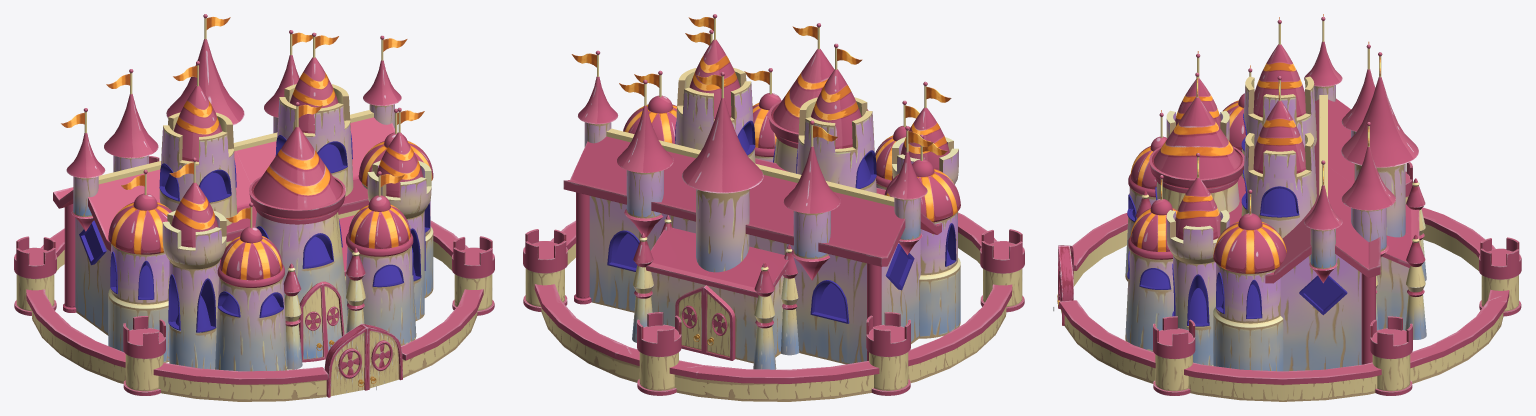
The model's file is Castle (2).fbx.
The picture shows the model from 3 angles, left to right: view 1: azimuth 30°, elevation 25°; view 2: azimuth 150°, elevation 25°; view 3: azimuth 270°, elevation 25°; orthographic projection. The views are drawn at different scales.
Parts seen in each view (by area): view 1: Cylinder.009, Circle, Cylinder.019, Cylinder.004, Cube, Cylinder.001, Cylinder.025, Cylinder.026, Cylinder.012, Cylinder.022, Cylinder.002, Cylinder.040 (+15 smaller); view 2: Cube, Circle, Cylinder.026, Cylinder.004, Cylinder.008, Cylinder.002, Cylinder.025, Cylinder.022, Cube.003, Cylinder.023, Cylinder.001, Cylinder.021 (+13 smaller); view 3: Circle, Cube, Cylinder.004, Cylinder.025, Cylinder.026, Cylinder.019, Cylinder.009, Cylinder.001, Cylinder.008, Cylinder.002, Cylinder.022, Cylinder.023 (+8 smaller).
Part boxes in pixels (left/top/right/bottom): Cylinder.009: left=215, top=195, right=416, bottom=371; Circle: left=26, top=220, right=483, bottom=401; Cylinder.019: left=162, top=132, right=431, bottom=369; Cylinder.004: left=159, top=57, right=353, bottom=225; Cube: left=53, top=117, right=394, bottom=335; Cylinder.001: left=249, top=127, right=347, bottom=334; Cylinder.025: left=108, top=132, right=433, bottom=362; Cylinder.026: left=14, top=156, right=494, bottom=395; Cylinder.012: left=324, top=323, right=402, bottom=397; Cylinder.022: left=66, top=60, right=401, bottom=231; Cylinder.002: left=104, top=55, right=299, bottom=172; Cylinder.040: left=299, top=281, right=344, bottom=362; Cube: left=563, top=136, right=941, bottom=364; Circle: left=534, top=212, right=1012, bottom=401; Cylinder.026: left=523, top=229, right=1024, bottom=395; Cylinder.004: left=675, top=39, right=876, bottom=192; Cylinder.008: left=682, top=98, right=763, bottom=272; Cylinder.002: left=617, top=105, right=840, bottom=280; Cylinder.025: left=623, top=95, right=960, bottom=338; Cylinder.022: left=578, top=76, right=927, bottom=254; Cube.003: left=675, top=285, right=735, bottom=360; Cylinder.023: left=632, top=233, right=776, bottom=369; Cylinder.001: left=768, top=49, right=868, bottom=173; Cylinder.021: left=574, top=192, right=881, bottom=360; Circle: left=1059, top=207, right=1509, bottom=401; Cube: left=1187, top=98, right=1419, bottom=371; Cylinder.004: left=1241, top=44, right=1316, bottom=238; Cylinder.025: left=1213, top=93, right=1286, bottom=371; Cylinder.026: left=1153, top=162, right=1521, bottom=395; Cylinder.019: left=1166, top=78, right=1229, bottom=365; Cylinder.009: left=1125, top=136, right=1177, bottom=351; Cylinder.001: left=1149, top=97, right=1244, bottom=215; Cylinder.008: left=1341, top=77, right=1418, bottom=237; Cylinder.002: left=1341, top=69, right=1395, bottom=256; Cylinder.022: left=1304, top=41, right=1342, bottom=283; Cylinder.023: left=1405, top=178, right=1426, bottom=339.
Bounding box in the file's own units: 16769 × 10533 × 17199.
